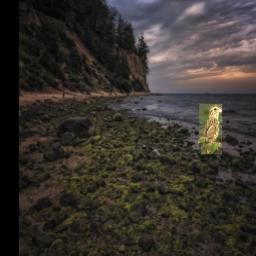Sparrow: (198, 105, 223, 155)
